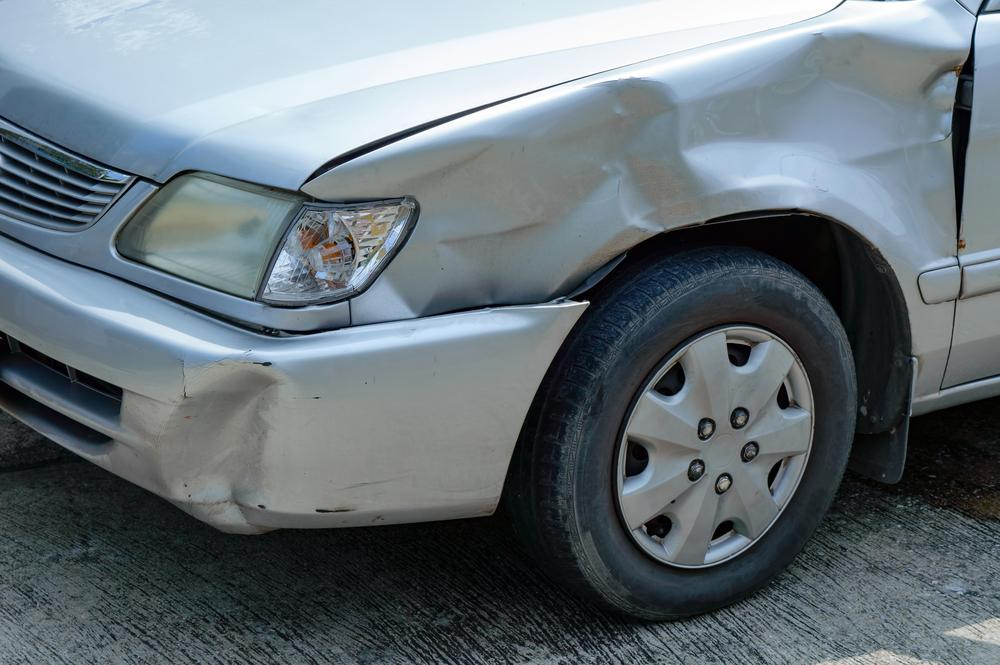dent: (325, 32, 965, 317), (160, 359, 311, 531)
